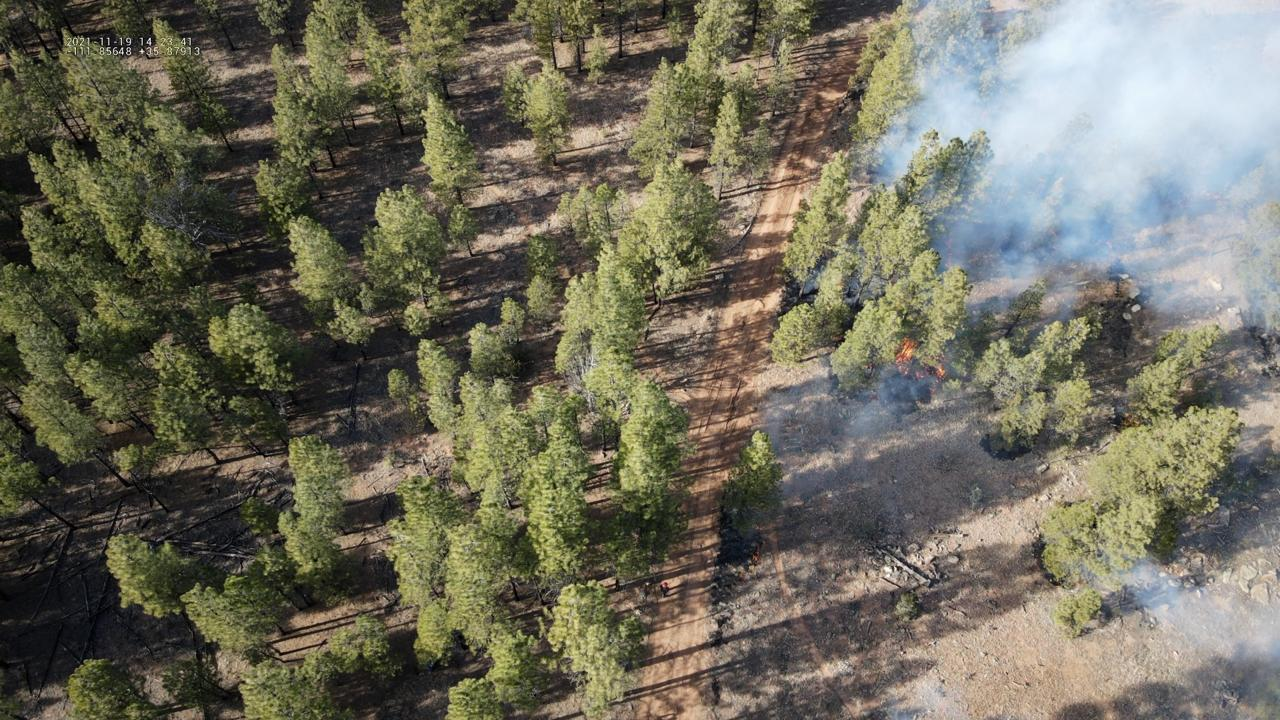fire: (893, 335, 947, 394), (752, 544, 760, 564)
smoke: (788, 0, 1280, 341), (1114, 552, 1280, 720), (762, 364, 941, 506), (885, 681, 970, 720)
